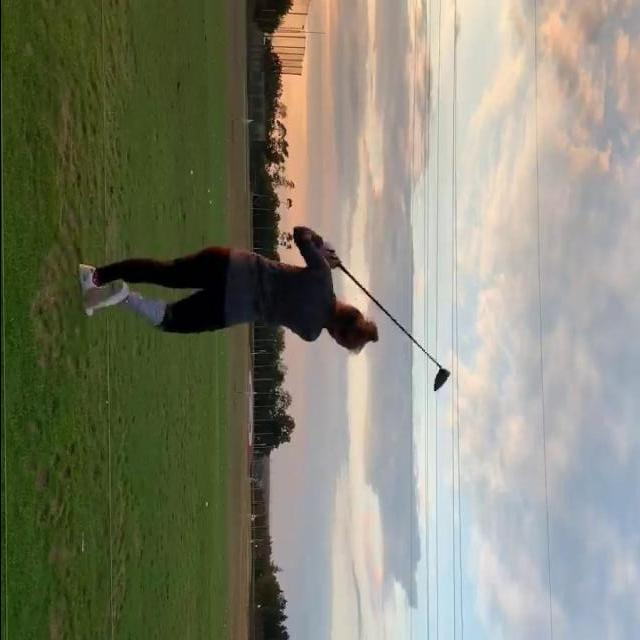golf club-handle: (337, 266, 450, 391)
golf club-head: (432, 369, 450, 391)
